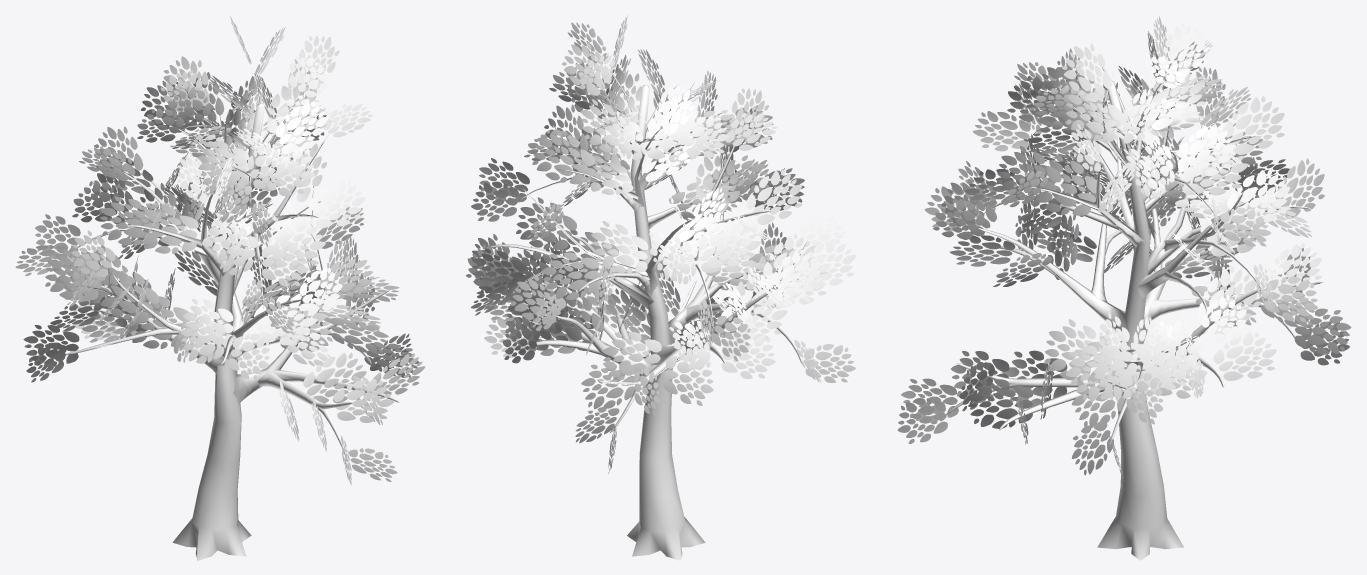
Rendered from tree_generic_deciduous.obj.
3 views of the same model, side by side, from view 1: azimuth 30°, elevation 25°; view 2: azimuth 150°, elevation 25°; view 3: azimuth 270°, elevation 25° (orthographic). The views are drawn at different scales.
Visible parts, largest first — view 1: generic_deciduous_leaf, object 1; view 2: generic_deciduous_leaf, object 1; view 3: generic_deciduous_leaf, object 1.
Boxes of the visible parts, x1=… form: generic_deciduous_leaf: x1=15, y1=16, x2=425, y2=485; object 1: x1=66, y1=65, x2=399, y2=560; generic_deciduous_leaf: x1=466, y1=15, x2=855, y2=473; object 1: x1=486, y1=64, x2=821, y2=560; generic_deciduous_leaf: x1=897, y1=16, x2=1351, y2=481; object 1: x1=946, y1=52, x2=1322, y2=560.
Bounding box in the file's own units: 7.78 × 9.84 × 7.51.
2 materials, 1 textured.
